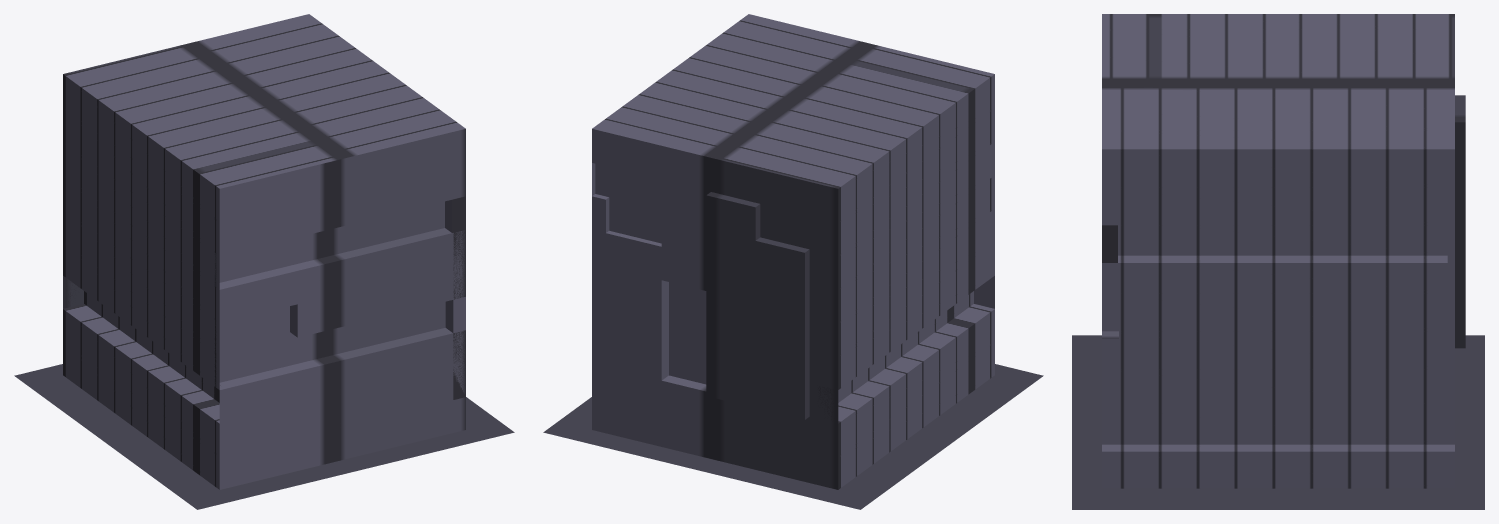
File: obstacle1_3.glb
The picture shows the model from 3 angles, left to right: view 1: azimuth 30°, elevation 25°; view 2: azimuth 150°, elevation 25°; view 3: azimuth 270°, elevation 25°; orthographic projection. The views are drawn at different scales.
Parts seen in each view (by area): view 1: Plano; view 2: Plano; view 3: Plano.
Boxes of the visible parts, left/top/right/bottom form: Plano: left=14, top=14, right=514, bottom=509; Plano: left=543, top=14, right=1043, bottom=509; Plano: left=1072, top=14, right=1484, bottom=509.
Bounding box in the file's own units: 4 × 3.64 × 4.
2 materials, 2 textured.
